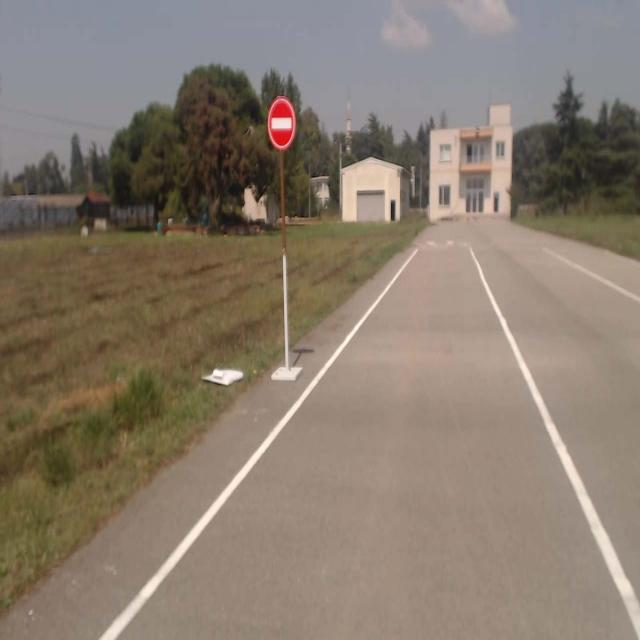girisyok: (268, 97, 296, 148)
